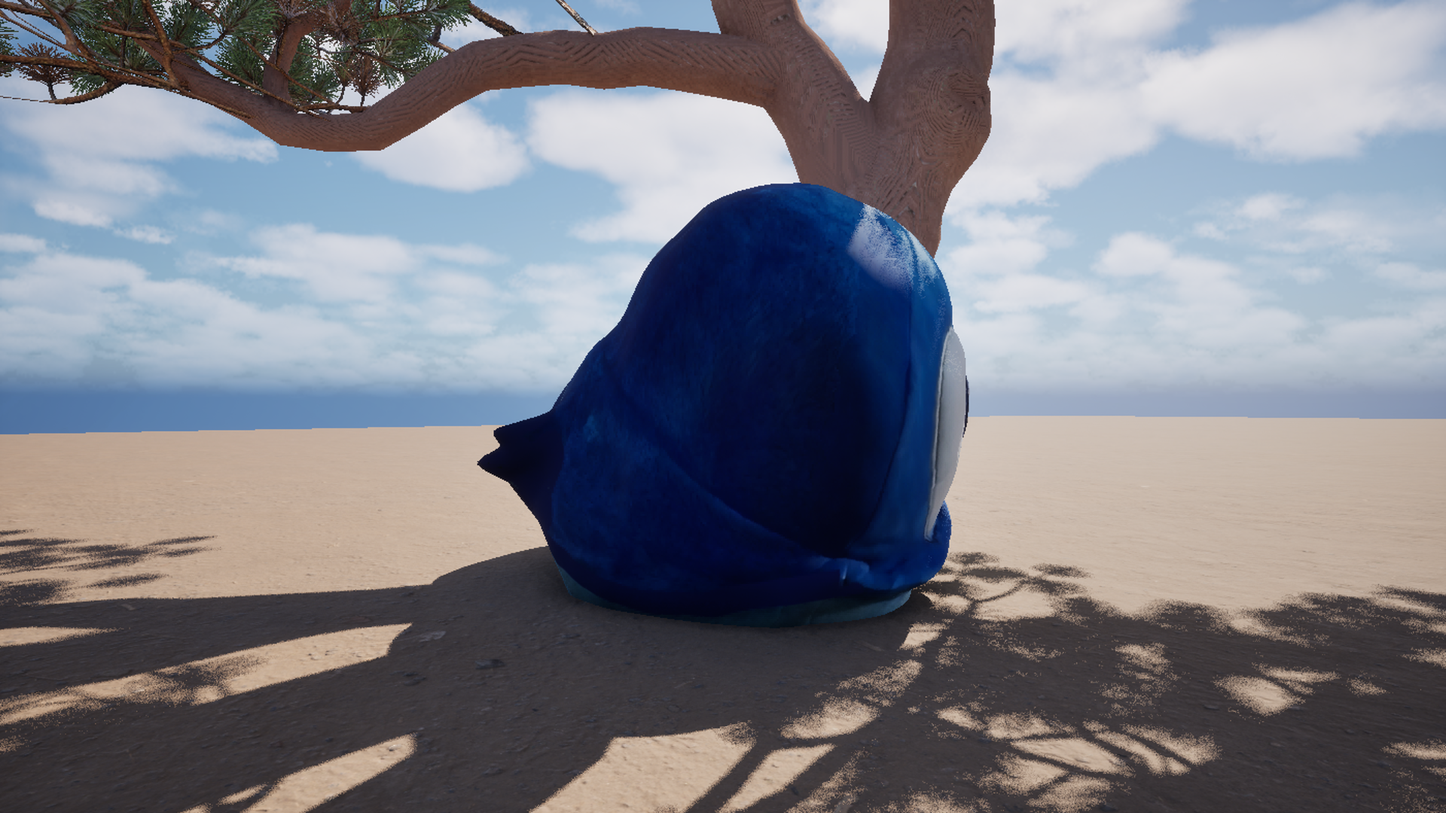Piplup: (286, 0, 1275, 813)
